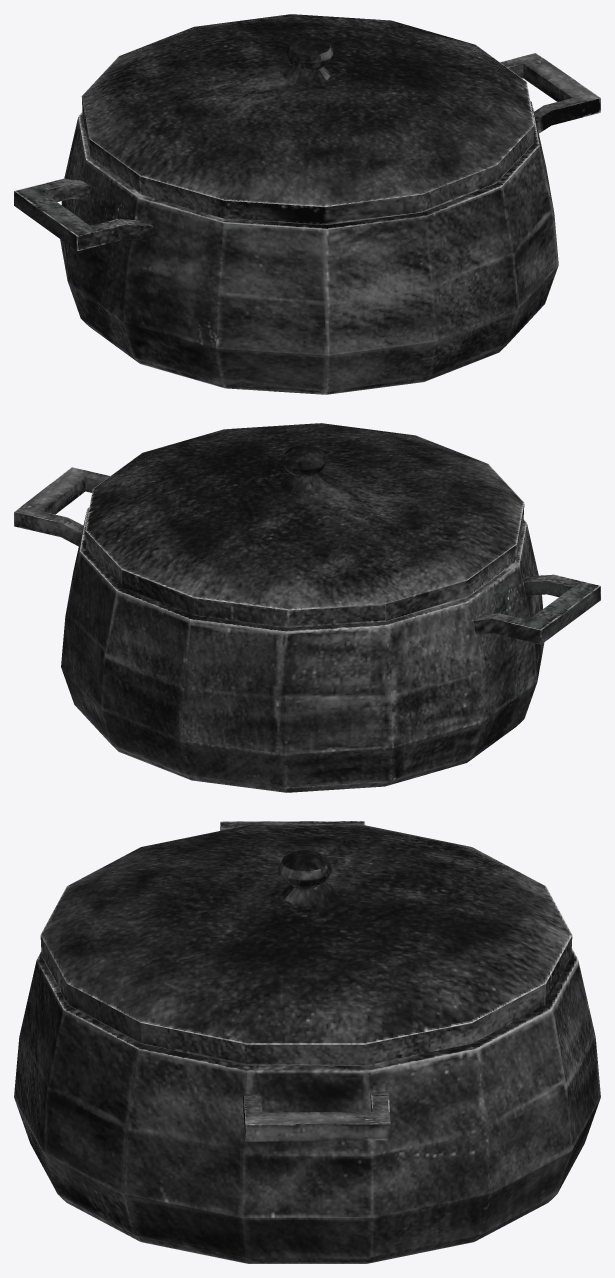
Rendered from olla_03_terminada.obj.
3 views of the same model, one above another, from view 1: azimuth 30°, elevation 25°; view 2: azimuth 150°, elevation 25°; view 3: azimuth 270°, elevation 25° (orthographic). The views are drawn at different scales.
Parts seen in each view (by area): view 1: olla.001, Cylinder.001_olla; view 2: olla.001, Cylinder.001_olla; view 3: olla.001, Cylinder.001_olla.
Part boxes in pixels (x1=…): olla.001: x1=14, y1=53, x2=600, y2=394; Cylinder.001_olla: x1=81, y1=14, x2=534, y2=224; olla.001: x1=14, y1=467, x2=600, y2=792; Cylinder.001_olla: x1=85, y1=423, x2=524, y2=627; olla.001: x1=14, y1=821, x2=600, y2=1263; Cylinder.001_olla: x1=40, y1=825, x2=572, y2=1065.
Bounding box in the file's own units: 2.79 × 1.29 × 2.28.
2 materials, 2 textured.
